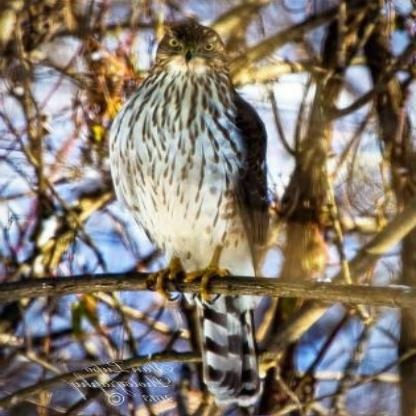Owl: (112, 25, 268, 342)
